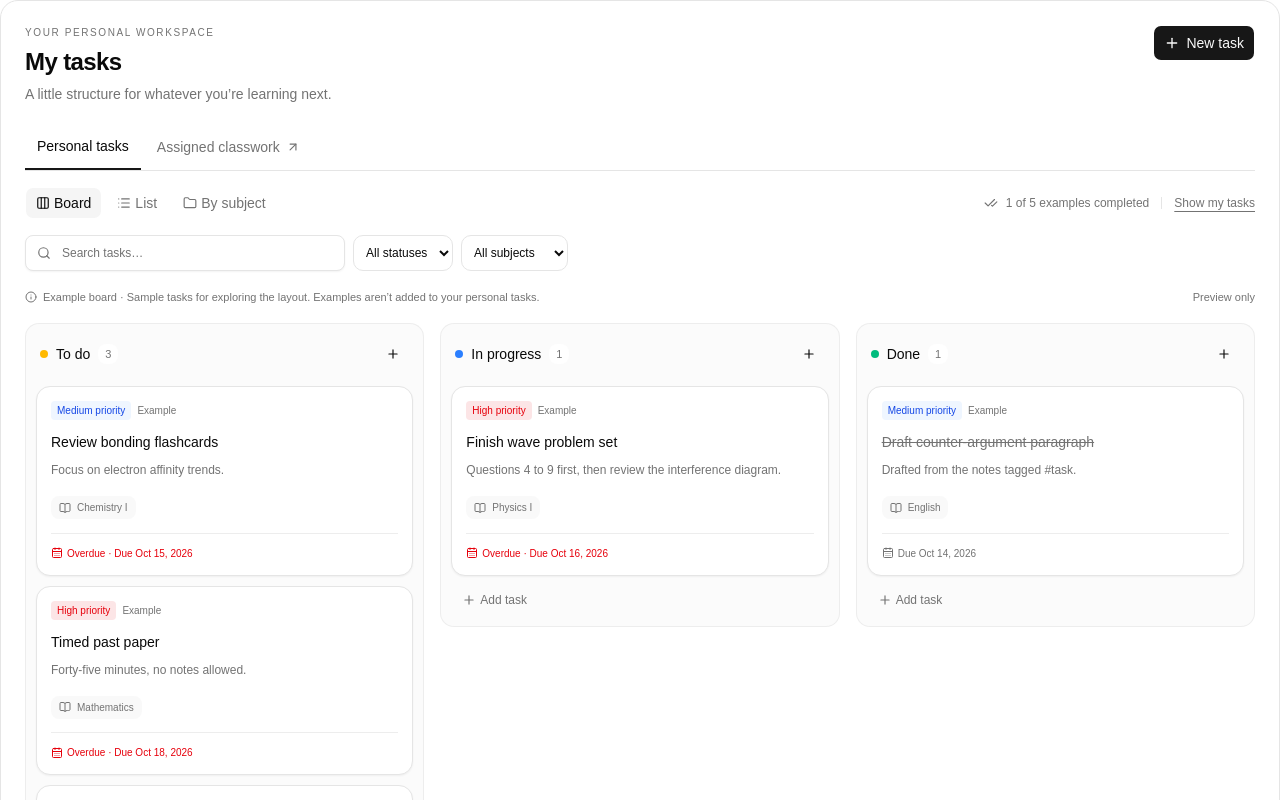
Scenario: reference-aligned personal tasks › keeps the example board read-only and does not persist samples on page load
Expected: the message reads "Preview only", left=1193, top=291, right=1255, bottom=303
Click the button with aria-label "Open task Finish wave problem set" at x=640, y=461, box left=466, top=401, right=814, bottom=520
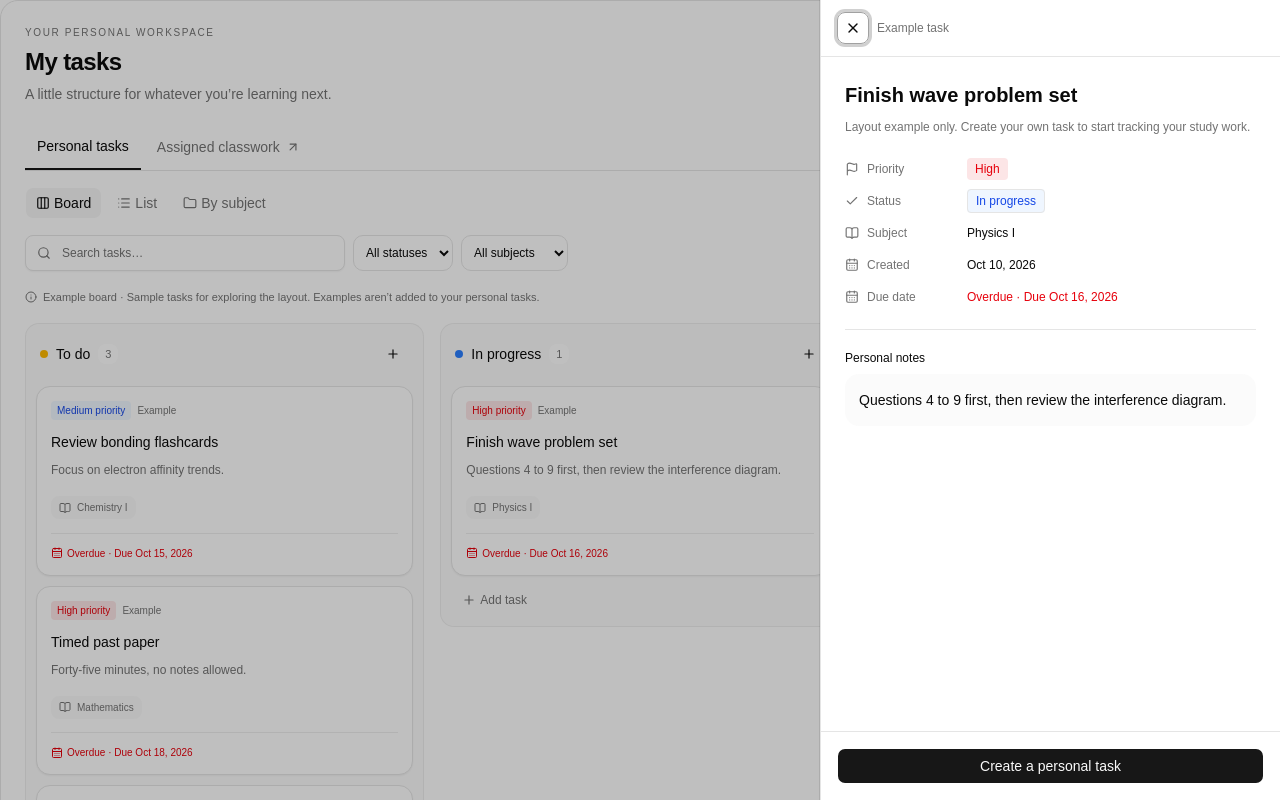
Now the text "Example task" is shown, box left=877, top=20, right=949, bottom=36
